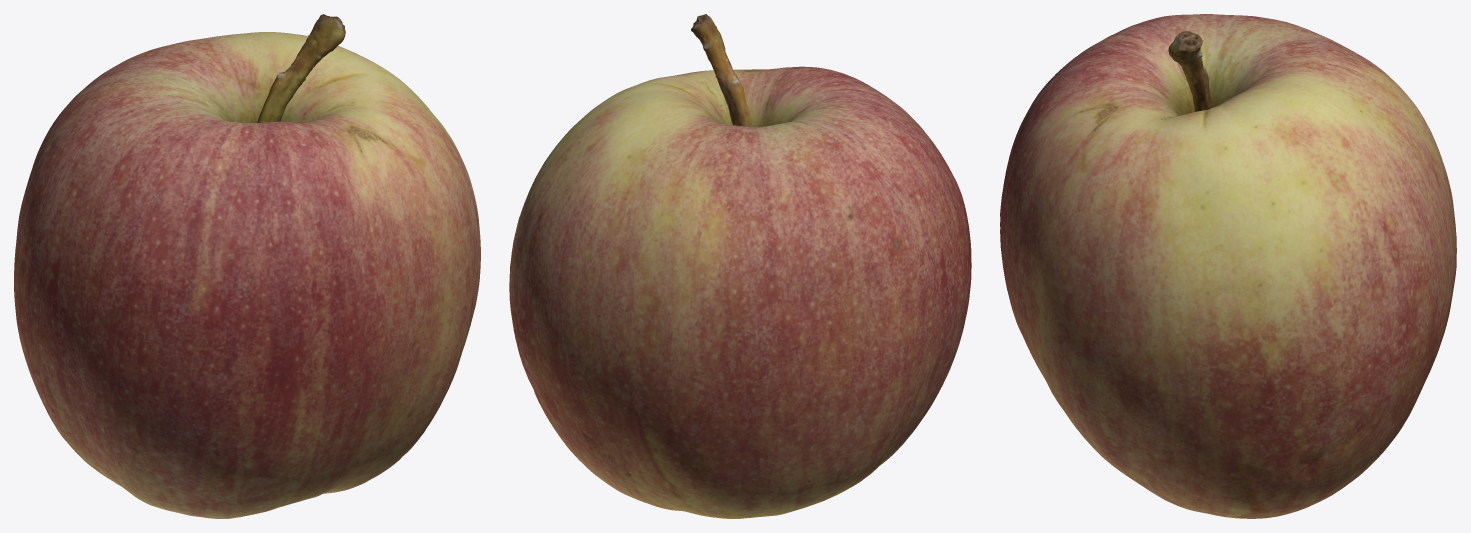
File: apple.glb
3 renders of one model, left to right at view 1: azimuth 30°, elevation 25°; view 2: azimuth 150°, elevation 25°; view 3: azimuth 270°, elevation 25°, orthographic. The views are drawn at different scales.
Parts seen in each view (by area): view 1: jabko_s; view 2: jabko_s; view 3: jabko_s.
Part boxes in pixels (left/top/right/bottom): jabko_s: left=14, top=14, right=480, bottom=518; jabko_s: left=509, top=14, right=971, bottom=518; jabko_s: left=1000, top=14, right=1456, bottom=518.
Bounding box in the file's own units: 0.1131 × 0.1247 × 0.1085.
Materials: 1 (1 with a texture image).
